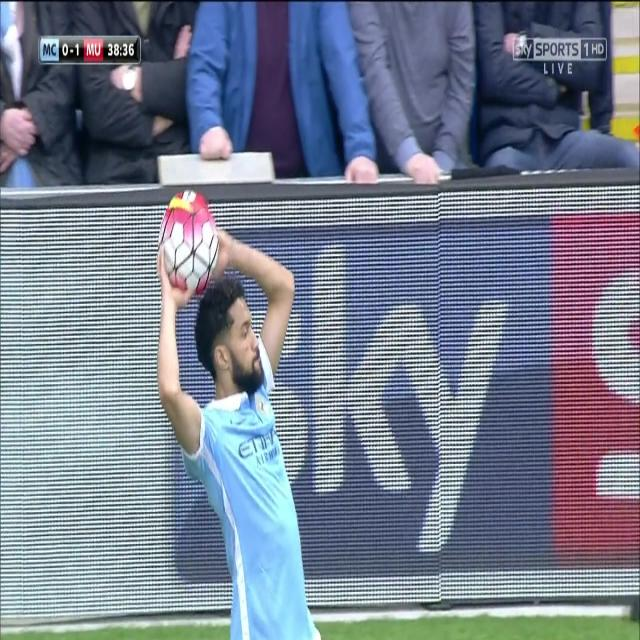Ball: (156, 183, 220, 296)
Player: (158, 218, 324, 640)
